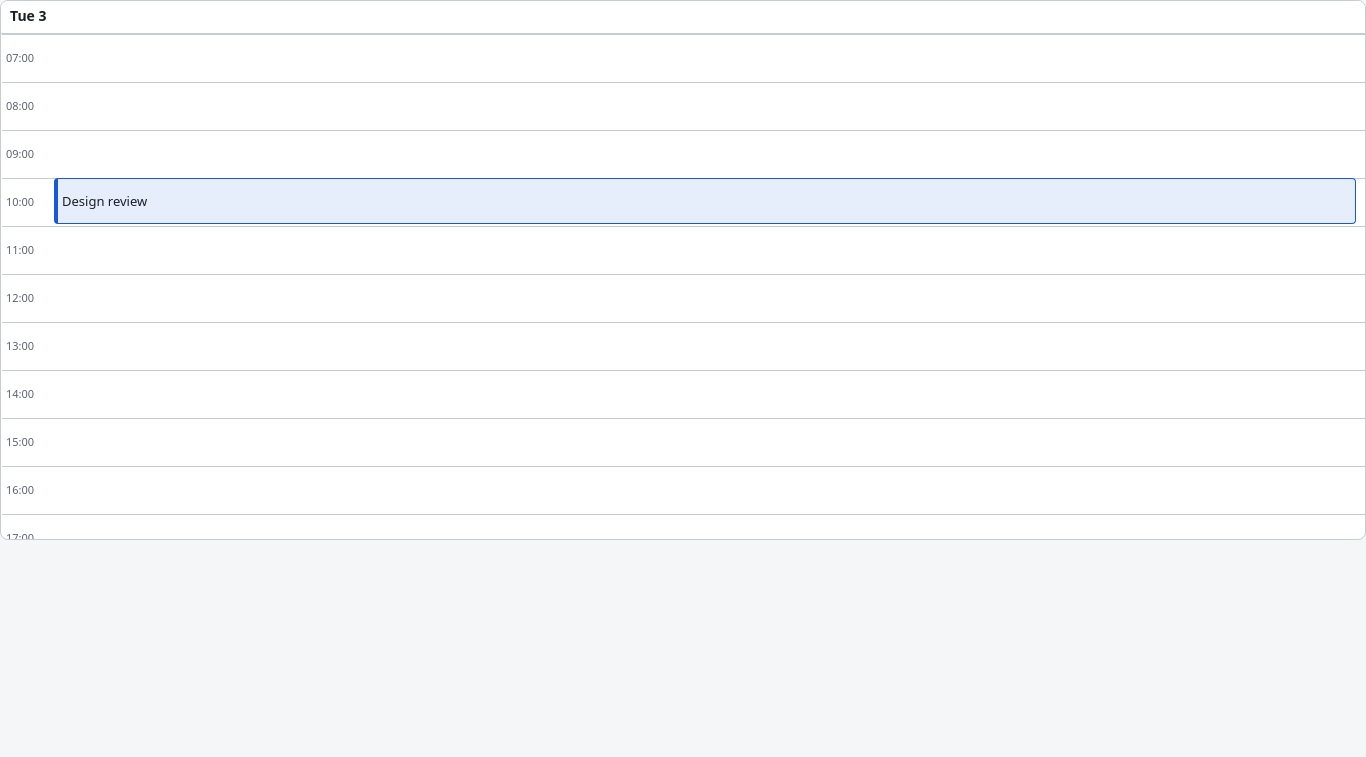
Test: Calendar: changing and deleting an event › puts the event back where it was when the server fails
The width and height of the screenshot is (1366, 757).
(page scrolled)
Click the button with aria-label "Design review," at {"x": 105, "y": 201}, box [54,178,1356,224]
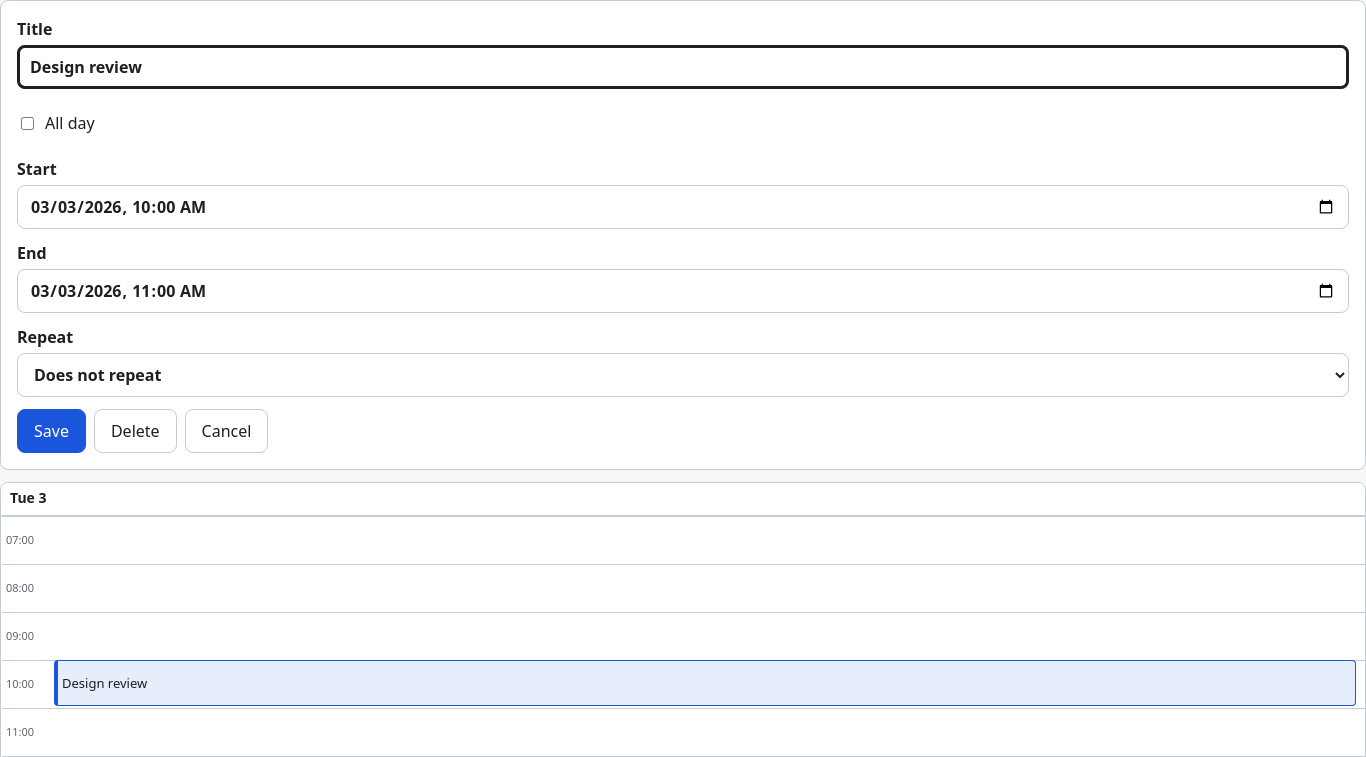
Replace the text in the field labelled "Start" with "2026-03-03T15:00" at {"x": 683, "y": 207}, box [17,185,1349,229]
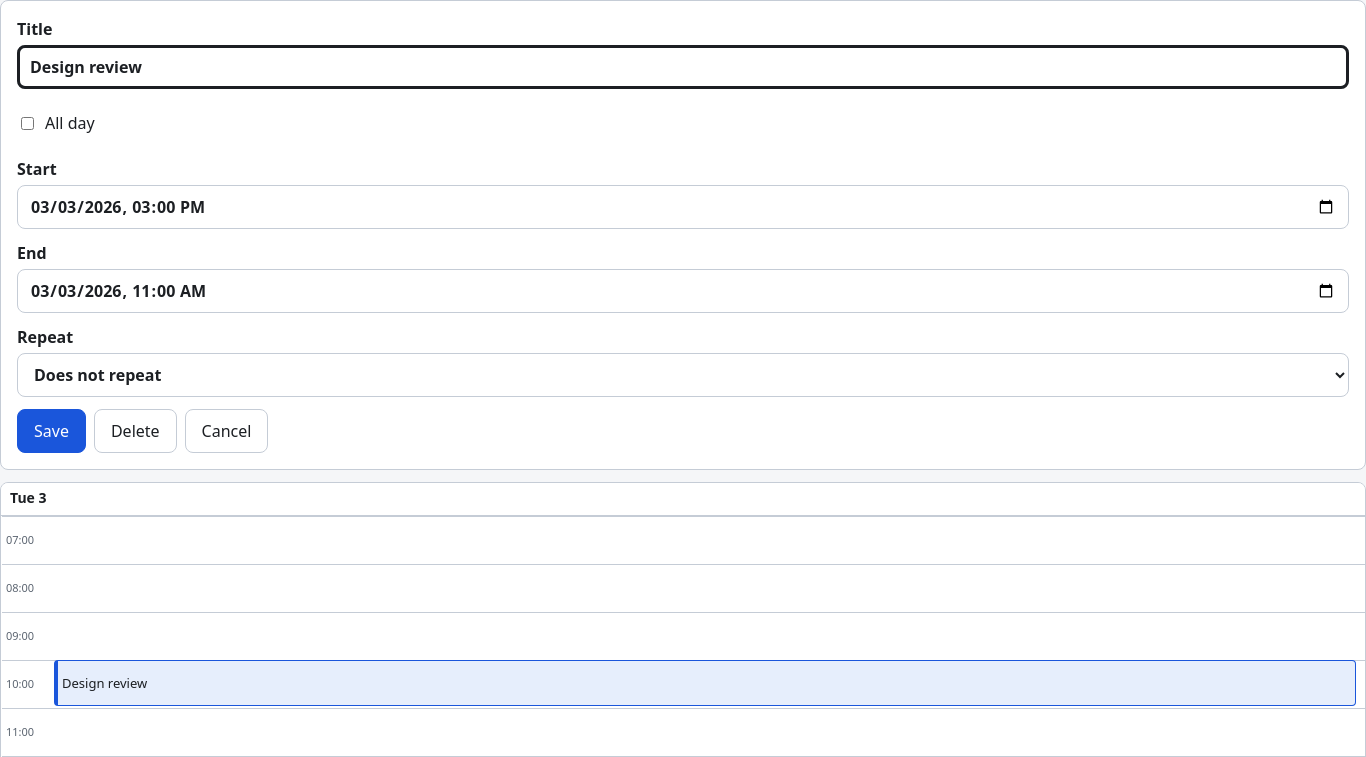
Replace the text in the field labelled "End" with "2026-03-03T16:00" at {"x": 683, "y": 291}, box [17,269,1349,313]
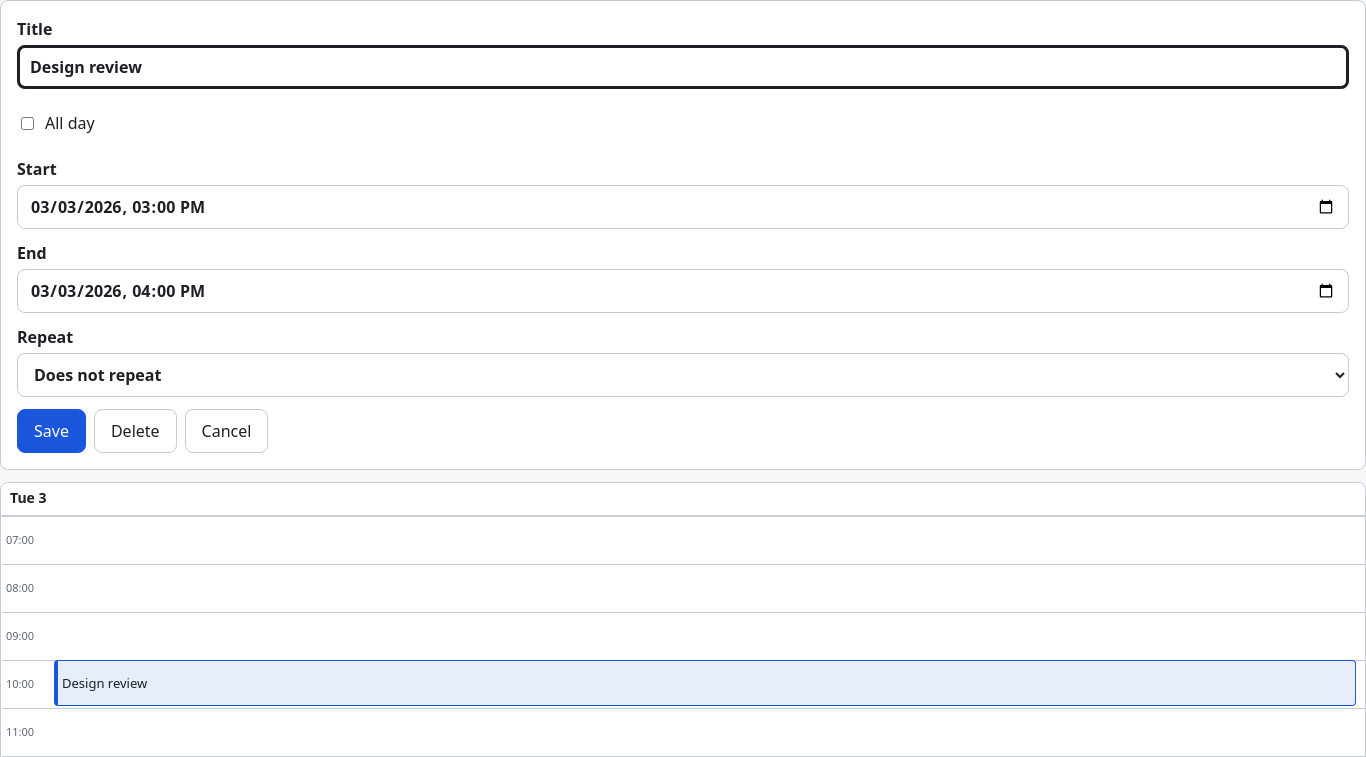
Click the button "Save" at {"x": 51, "y": 431}, box [17,409,86,453]
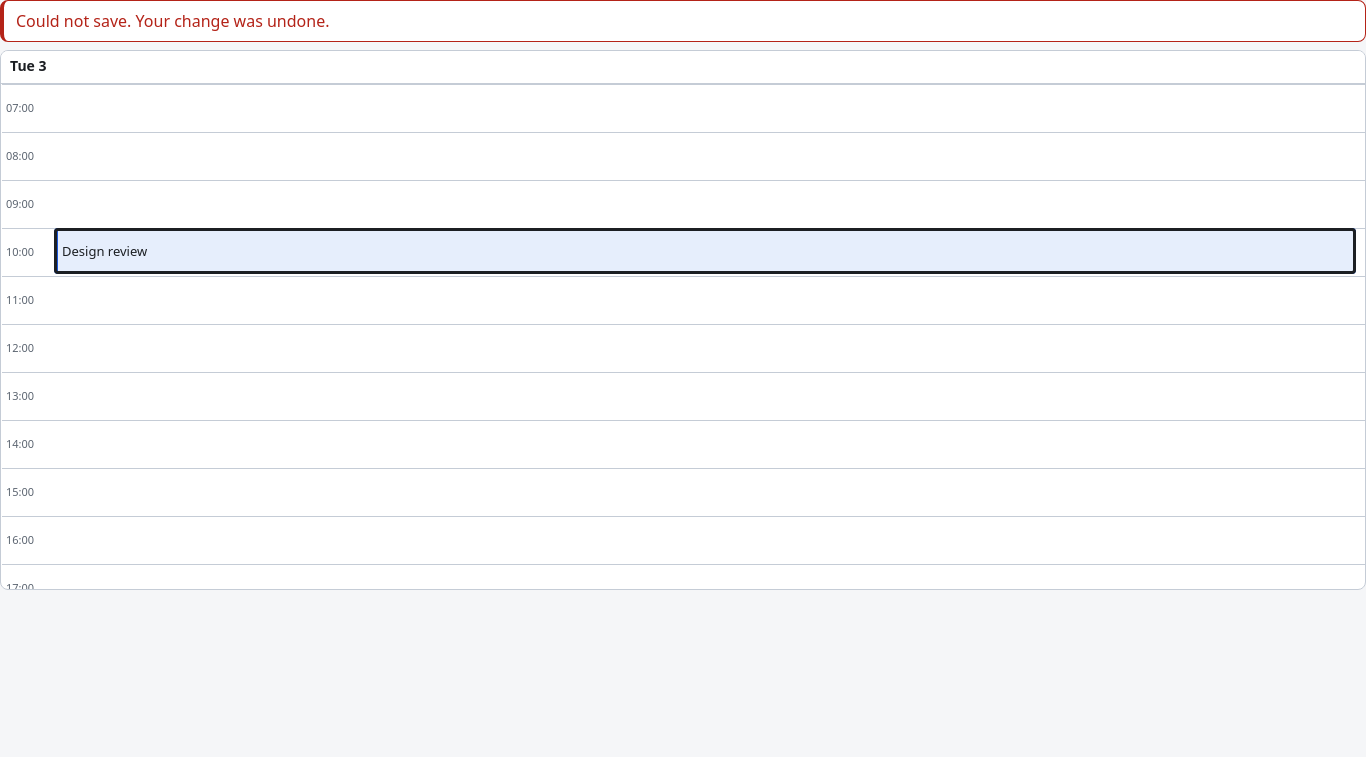
Check: the message reads "Could not save. Your change was undone.", box [16,10,330,32]
